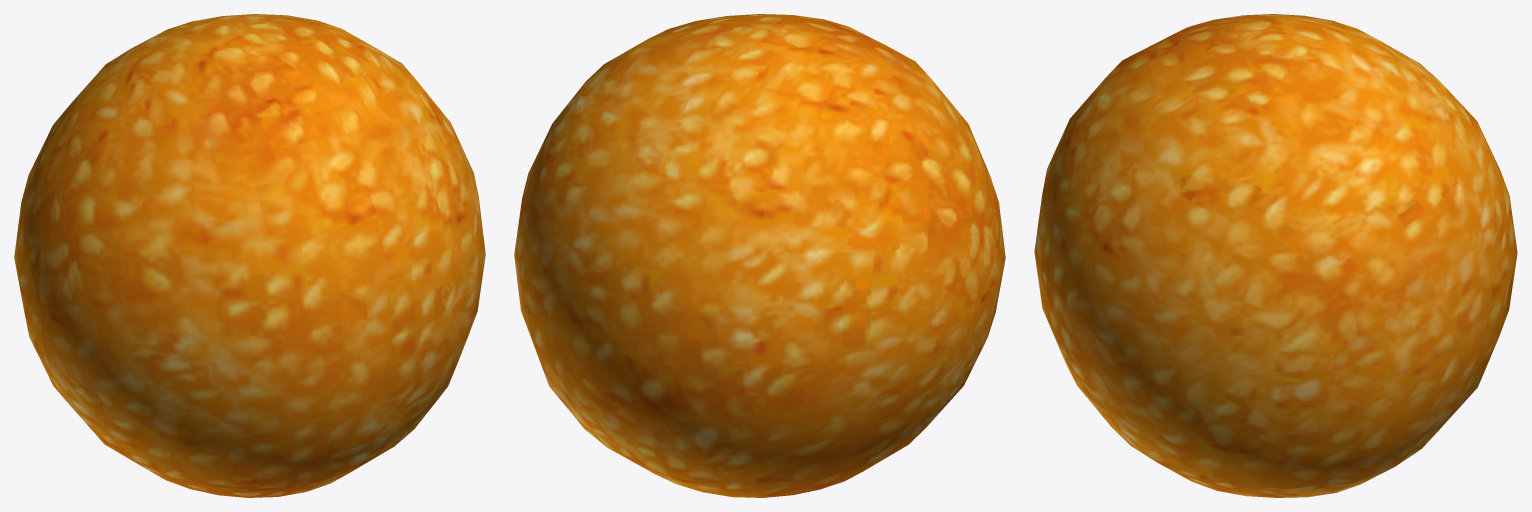
File: BFSesameBall.obj
3 views of the same model, side by side, from view 1: azimuth 30°, elevation 25°; view 2: azimuth 150°, elevation 25°; view 3: azimuth 270°, elevation 25° (orthographic).
Parts seen in each view (by area): view 1: zhimaqiu; view 2: zhimaqiu; view 3: zhimaqiu.
Boxes of the visible parts, left/top/right/bottom form: zhimaqiu: left=14, top=14, right=485, bottom=497; zhimaqiu: left=514, top=14, right=1005, bottom=497; zhimaqiu: left=1034, top=14, right=1517, bottom=497.
Size of the model in its own units: 0.7146 by 0.7127 by 0.7121.
